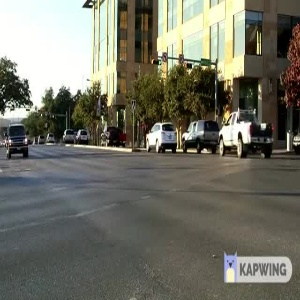suv: (137, 118, 182, 160), (178, 118, 224, 154), (2, 119, 37, 165)
truck: (214, 106, 276, 168), (97, 125, 136, 154)
